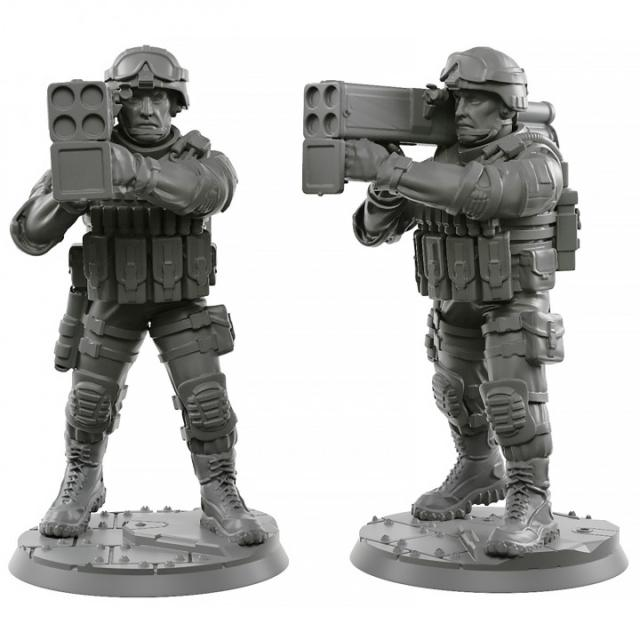bazooka: (281, 54, 573, 218), (25, 56, 144, 240)
